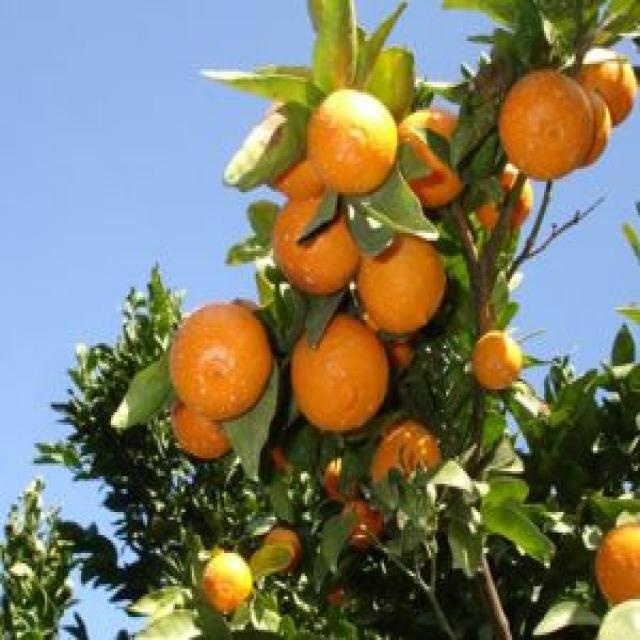Orange: (471, 53, 605, 203), (341, 203, 462, 360), (158, 280, 276, 435), (285, 302, 404, 450), (296, 77, 413, 221)
